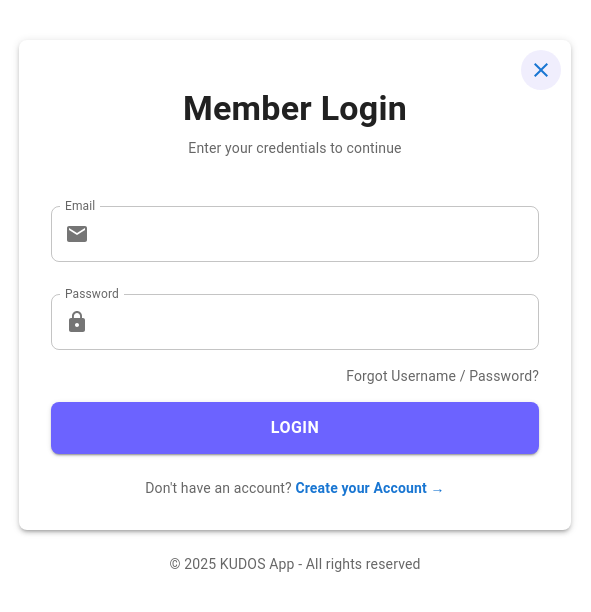
Test case: LoginPage Integration Tests › Form Validation › should validate required fields
# Submit form without filling fields
What coordinates should you click on to do the following:
click the button "Login"
I would click on:
 (295, 428)
Its box is [51,402,539,454].
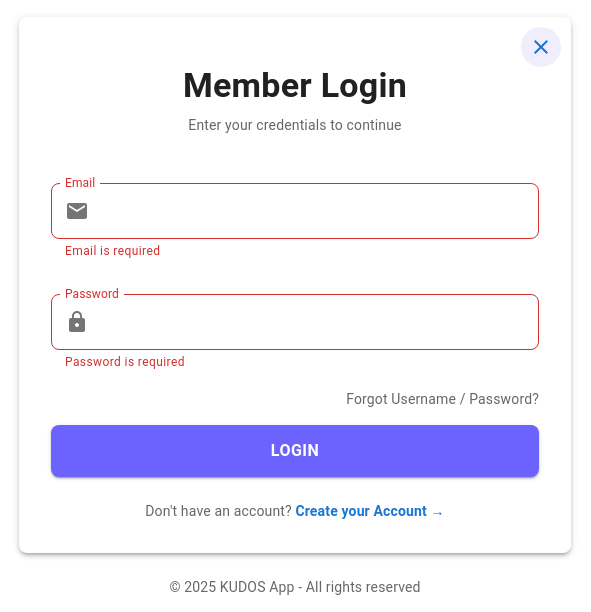
Expected: the text "Email is required" is shown, [65,244,160,258]
Expected: the text "Password is required" is shown, [65,355,185,369]
